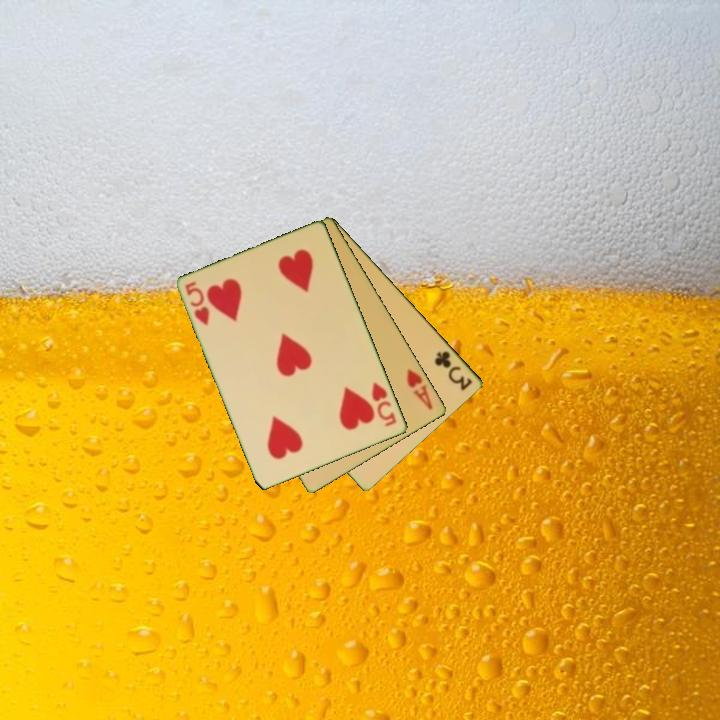3c: (431, 347, 476, 394)
5h: (369, 378, 400, 430), (182, 278, 213, 329)
Ah: (403, 365, 436, 413)
